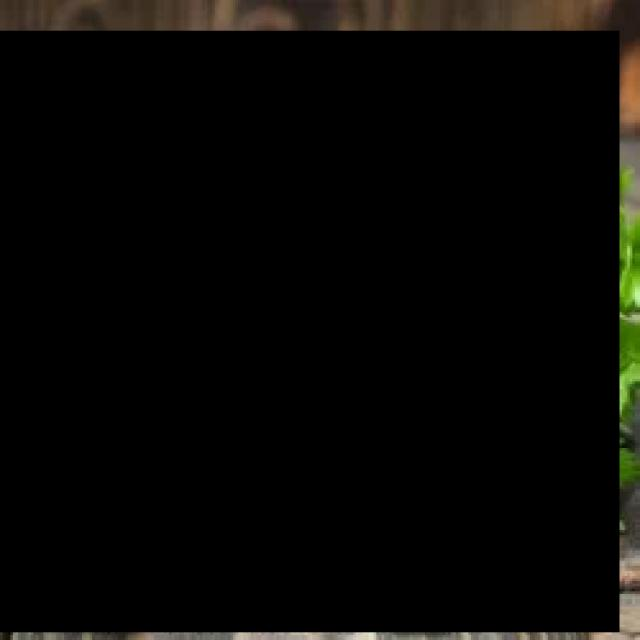Coriander: (0, 31, 620, 630)
